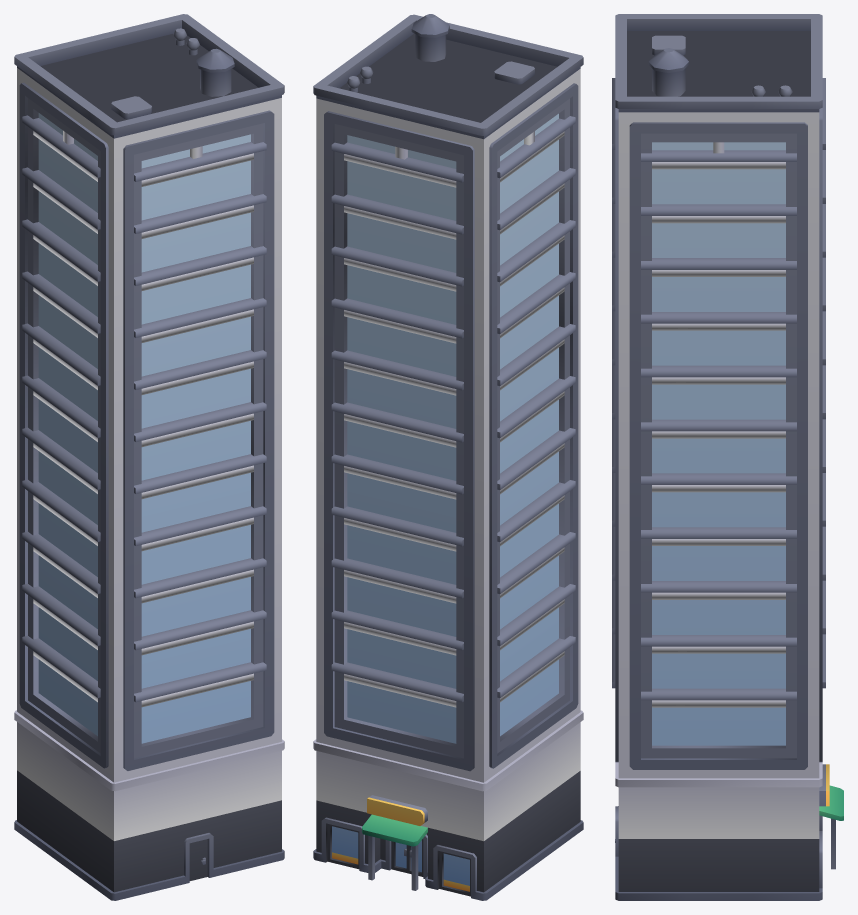
The model's file is building-skyscraper-d.glb.
3 renders of one model, left to right at view 1: azimuth 30°, elevation 25°; view 2: azimuth 150°, elevation 25°; view 3: azimuth 270°, elevation 25°, orthographic. The views are drawn at different scales.
Visible parts, largest first — view 1: building-skyscraper-d; view 2: building-skyscraper-d; view 3: building-skyscraper-d.
Part boxes in pixels (x1,y1,x2,y2): building-skyscraper-d: (14, 14, 284, 900); building-skyscraper-d: (313, 14, 583, 900); building-skyscraper-d: (612, 14, 843, 900).
Bounding box in the file's own units: 1.28 × 5.47 × 1.39.
Materials: 1 (1 with a texture image).
